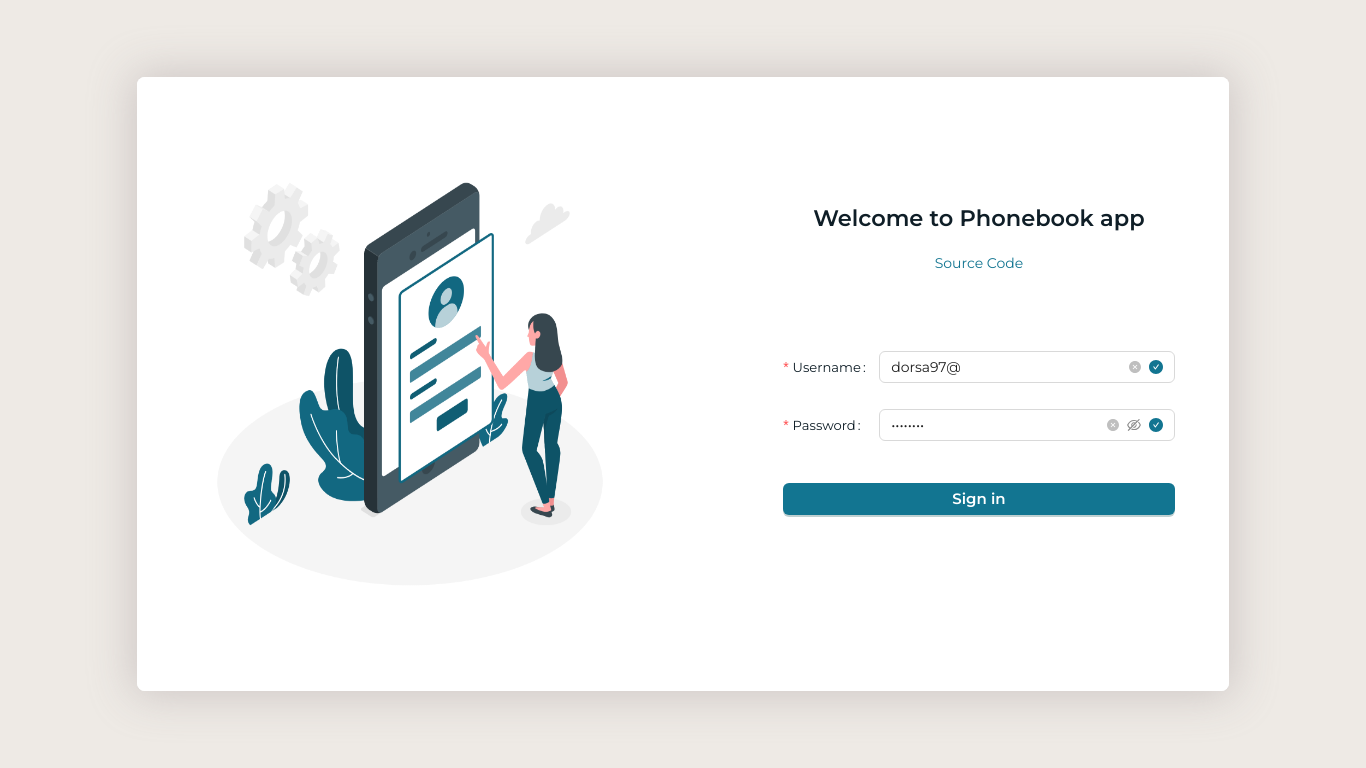
Test: username input validation › input validation on invalid text
Replace the text in the field labelled "Username" with "test" at (1006, 367), box top-left (891, 356), bottom-right (1121, 378)
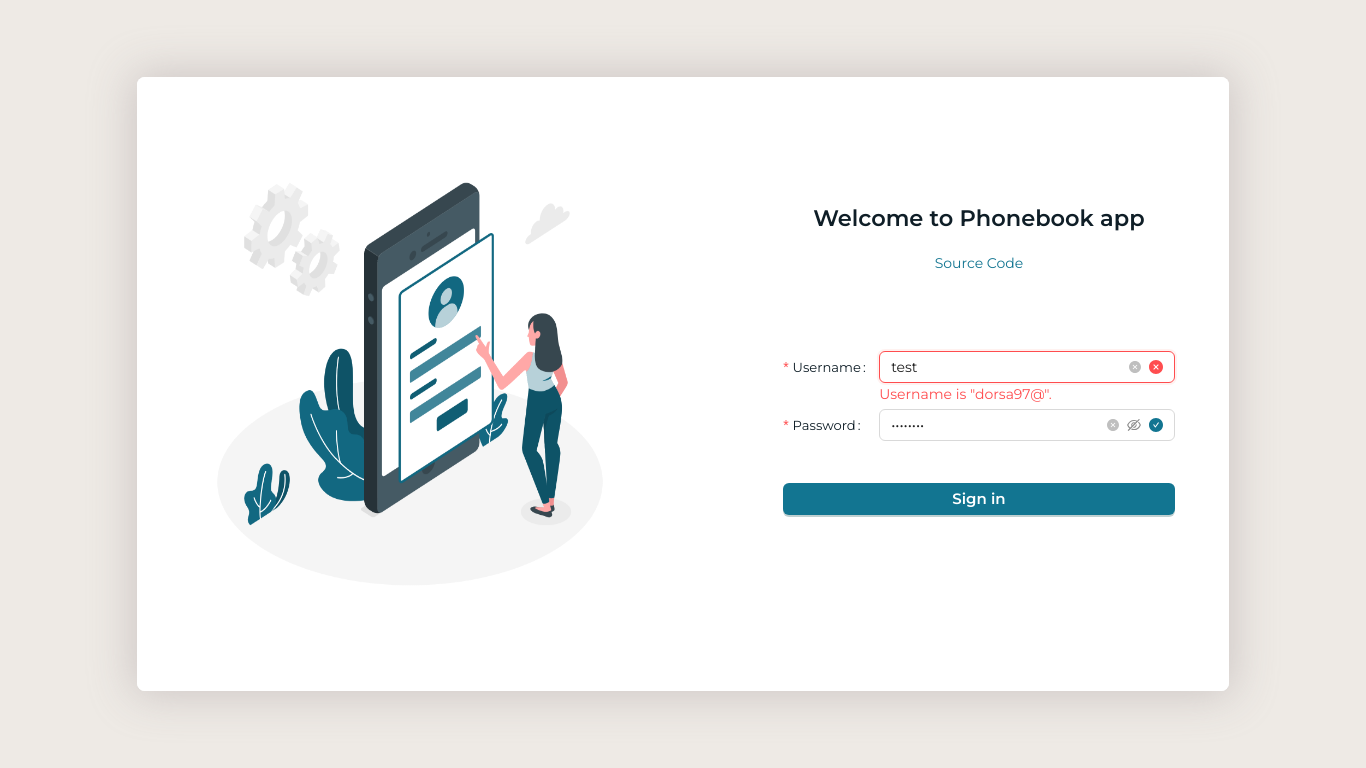
expect the text "Username is \"dorsa97@\"." is shown: met, box top-left (879, 385), bottom-right (1052, 403)
